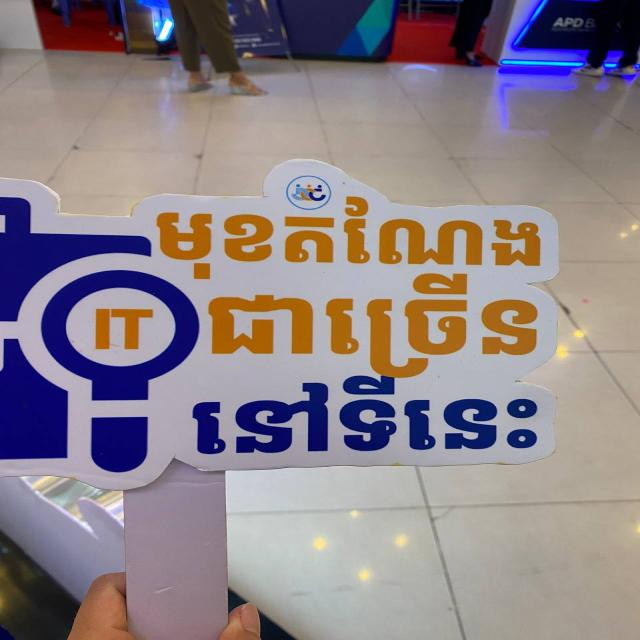Yolov11kh: (202, 273, 548, 379), (156, 194, 548, 284), (193, 377, 544, 462)
